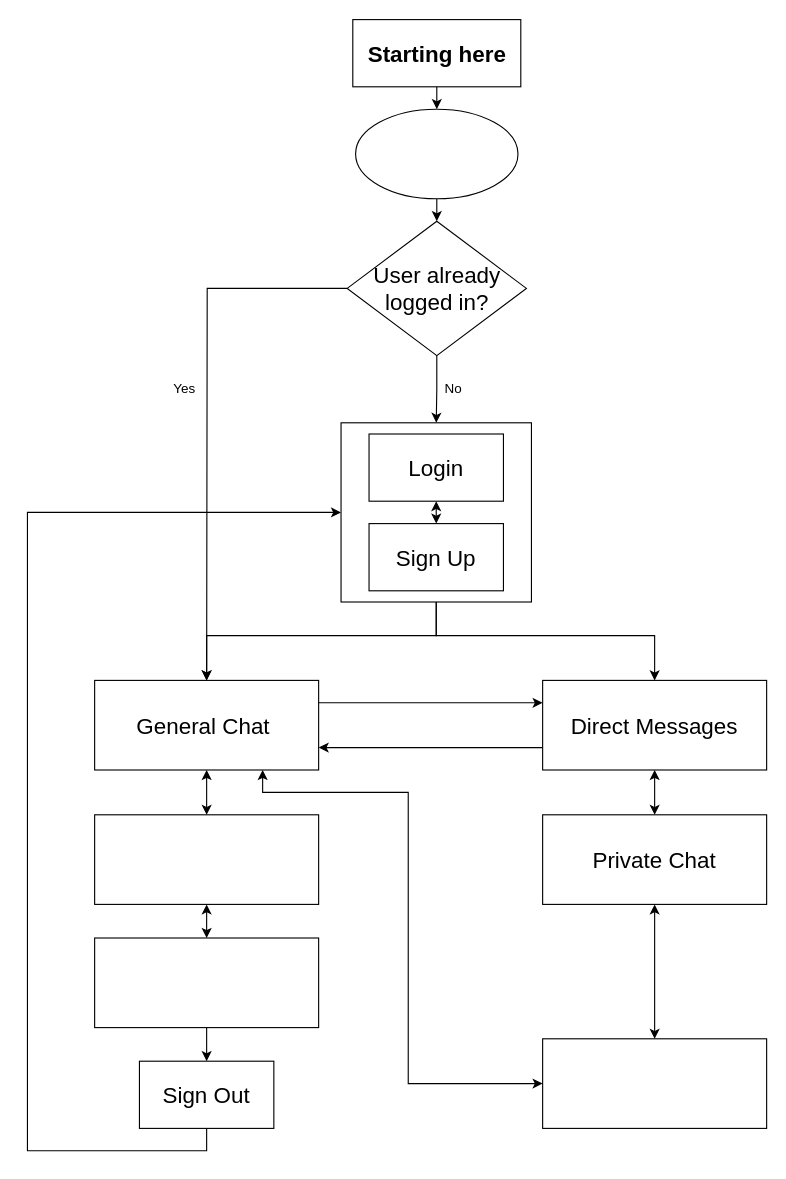
The diagram is 786 pixels wide and 1179 high, and some of its shapes have lost their labels. Each missing label, with the centre of its shape:
Information: the point at 206,982
Launch screen: the point at 436,153
Side Drawer: the point at 206,859
User details screen: the point at 654,1083
